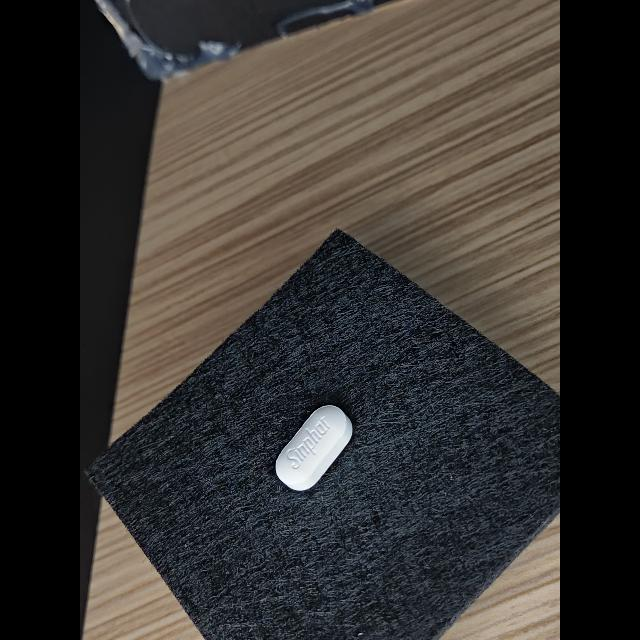Intact Pill: (275, 405, 353, 491)
